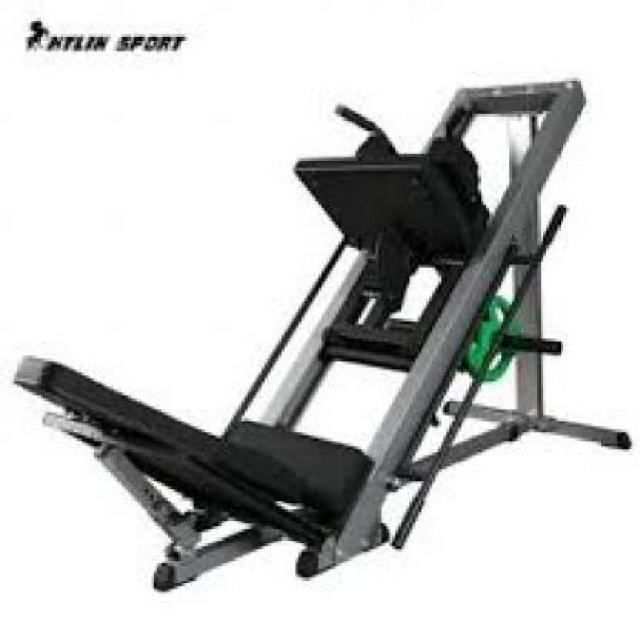leg press: (15, 67, 631, 596)
